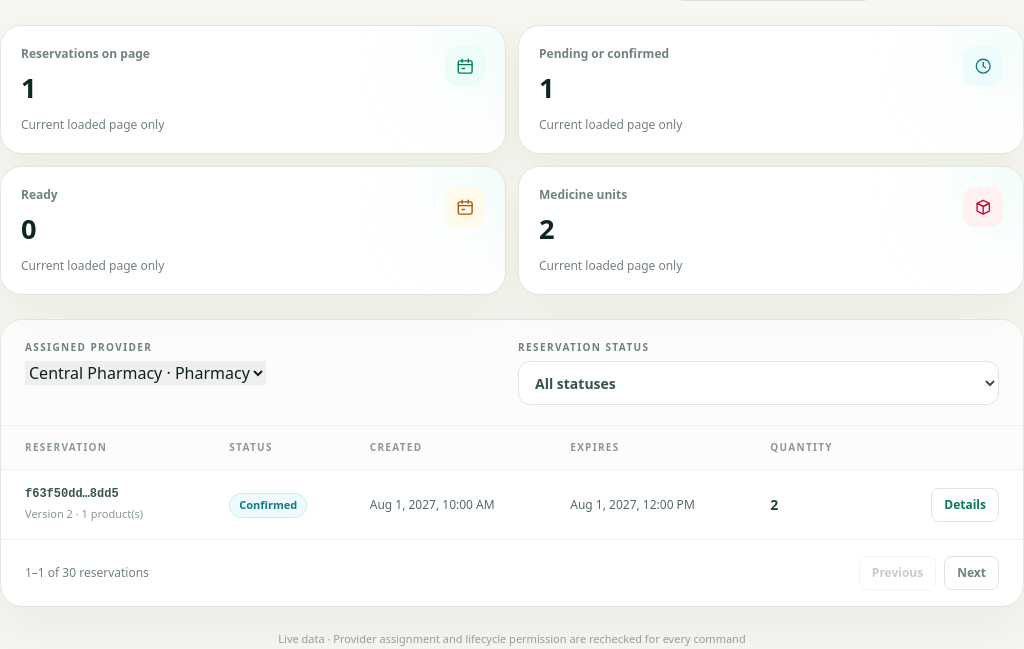
ReservationWorkspace live integration › renders accepted live fields and expands details without patient claims
Click the button "Details". click: (965, 505)
box: top-left (931, 488), bottom-right (999, 522)
(page scrolled)
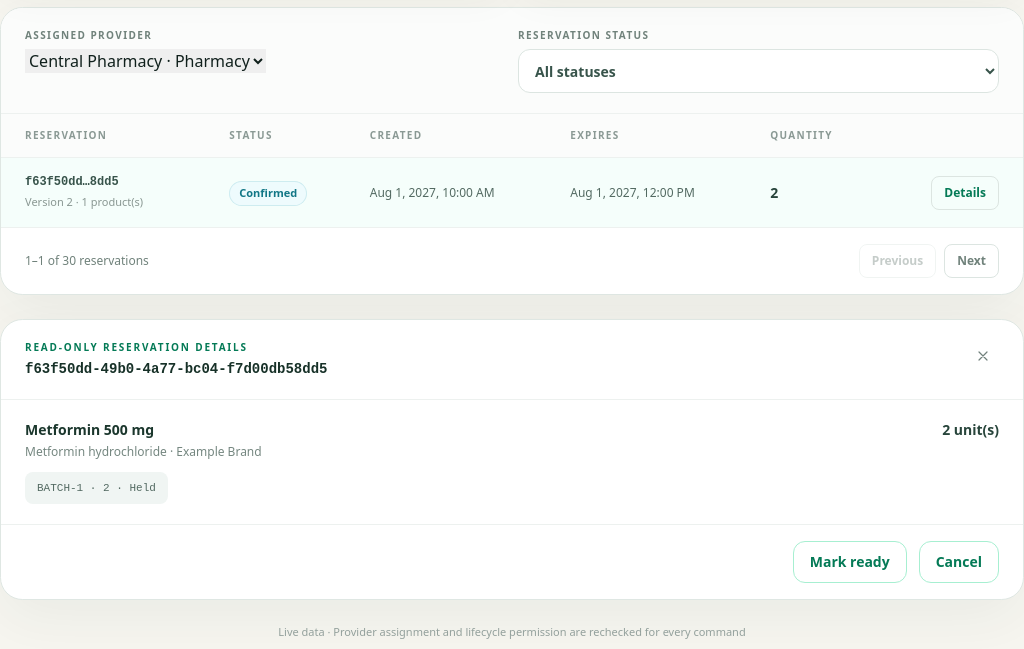
Result: the heading "Metformin 500 mg" is shown at top-left (25, 420), bottom-right (154, 439)
Result: the text "BATCH-1 · 2 · Held" is shown at top-left (25, 472), bottom-right (168, 504)
Result: the button "Mark ready" is shown at top-left (793, 541), bottom-right (907, 583)
